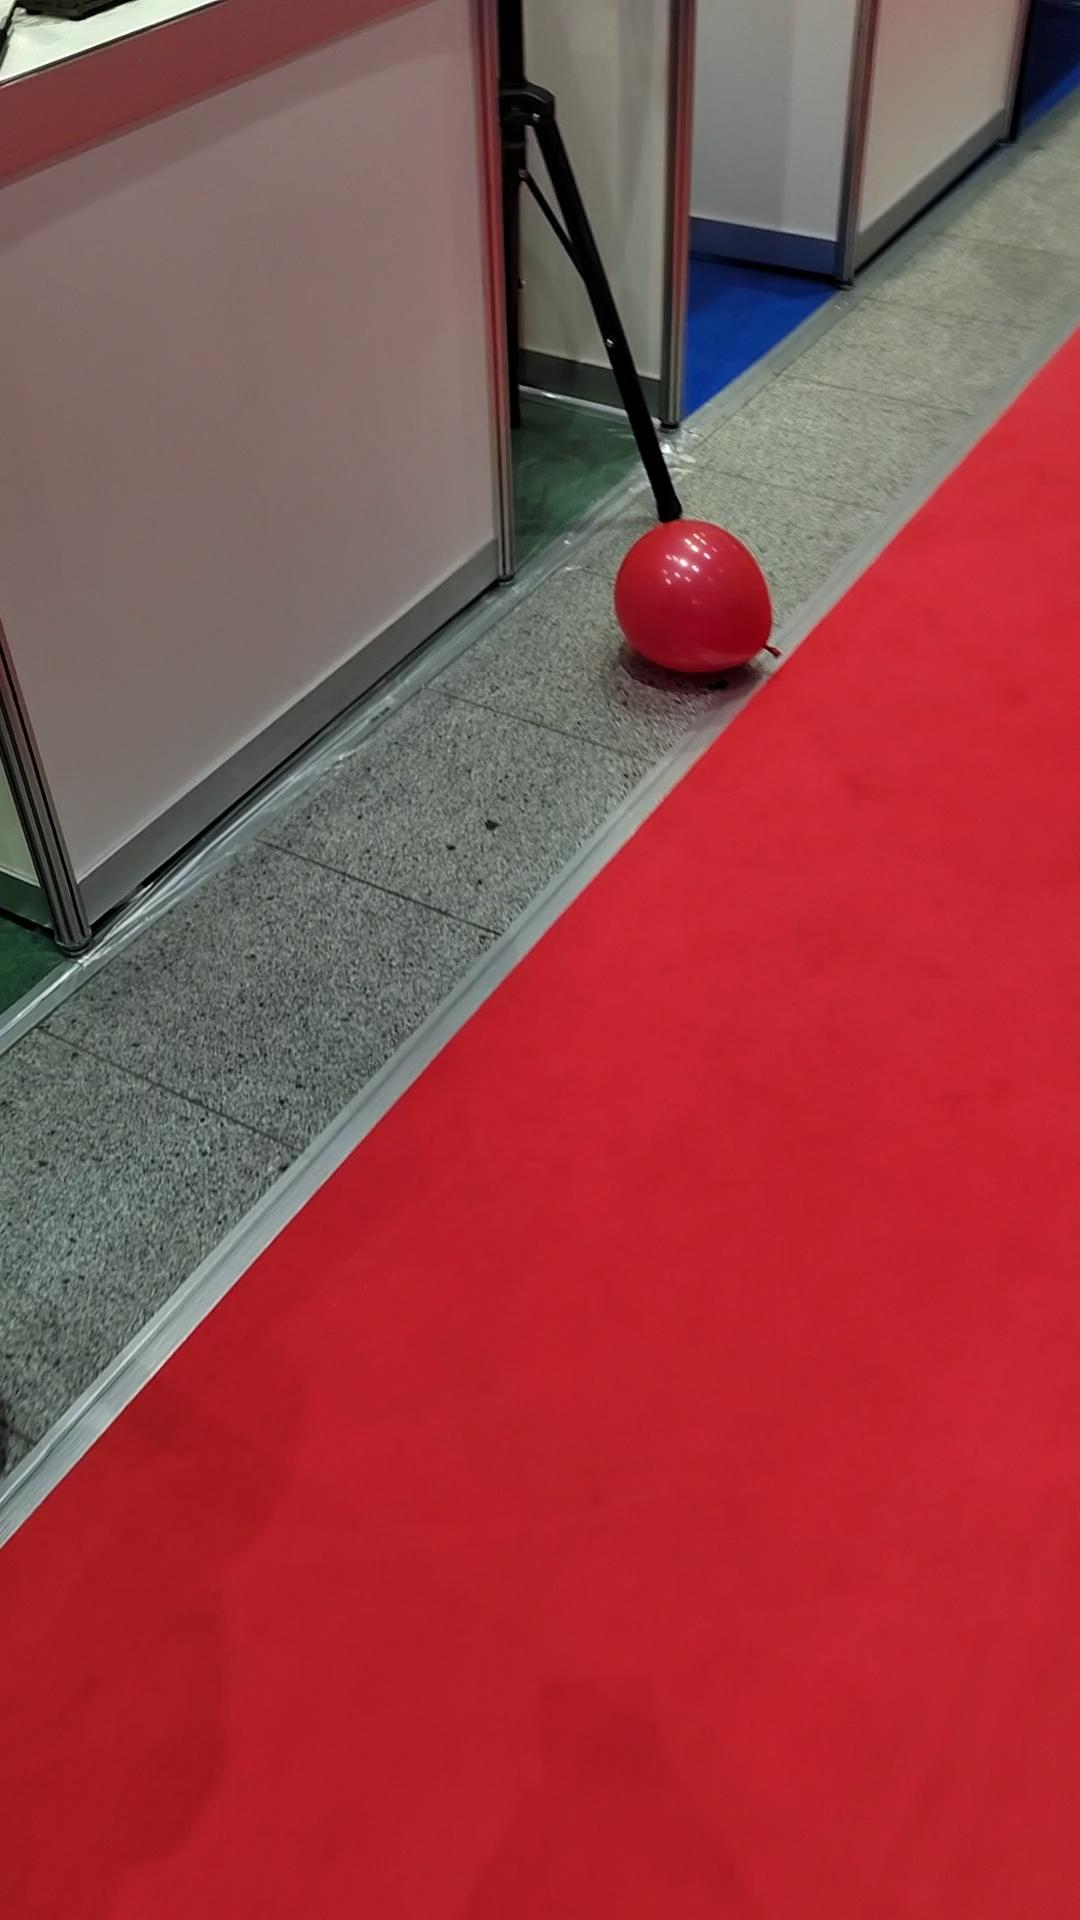red: (611, 510, 779, 688)
